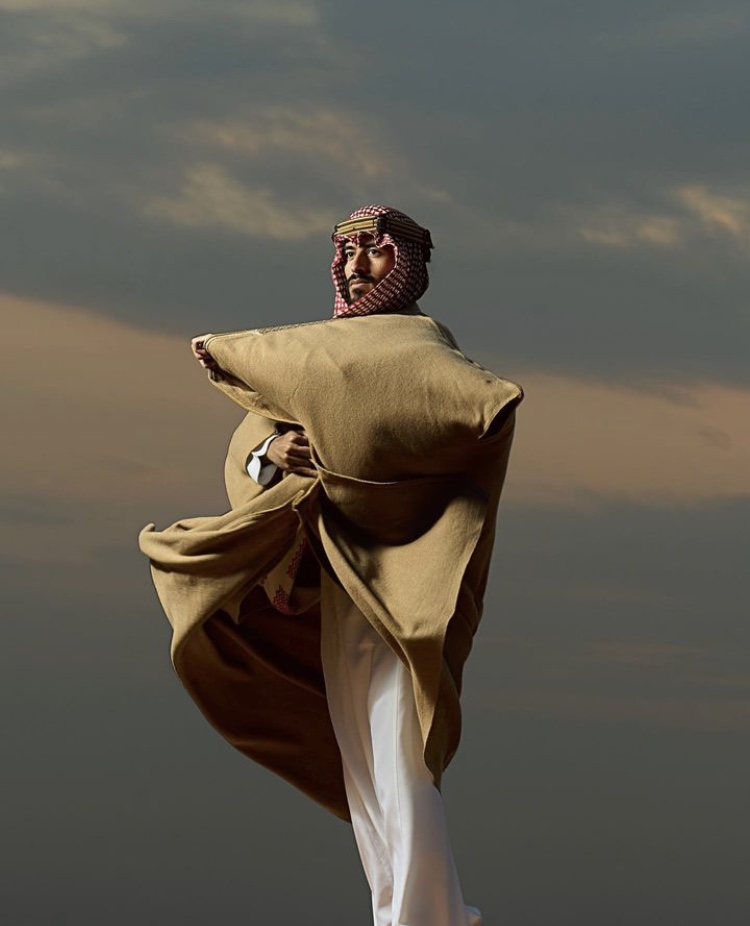Saudi_Founding_Day: (136, 203, 526, 924)
